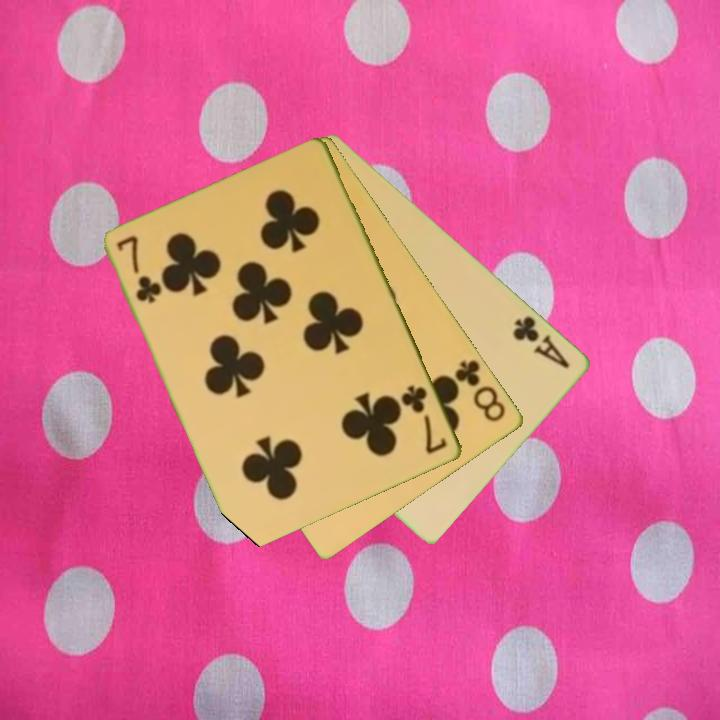7c: (398, 382, 450, 457), (114, 232, 164, 307)
8c: (451, 356, 509, 425)
Ac: (509, 312, 573, 372)
